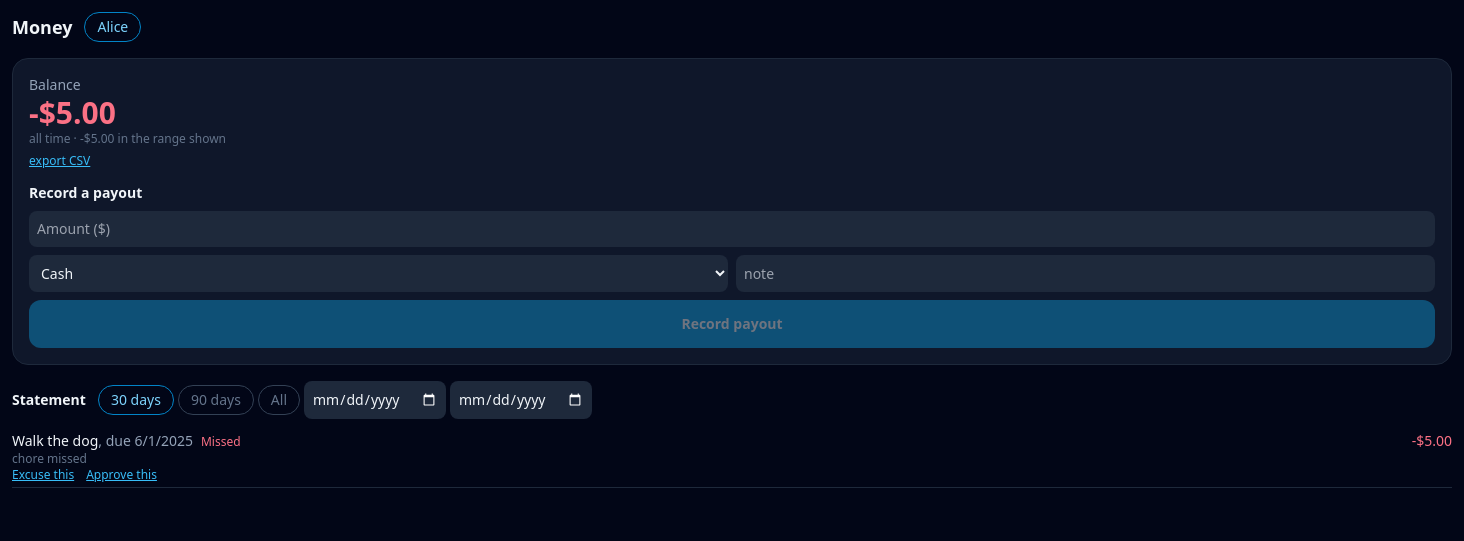
it: admin Money statement › can back out of a quick decision
This screenshot has width=1464, height=541.
Click the button "Approve this" at (122, 475), box [86,467,157,483]
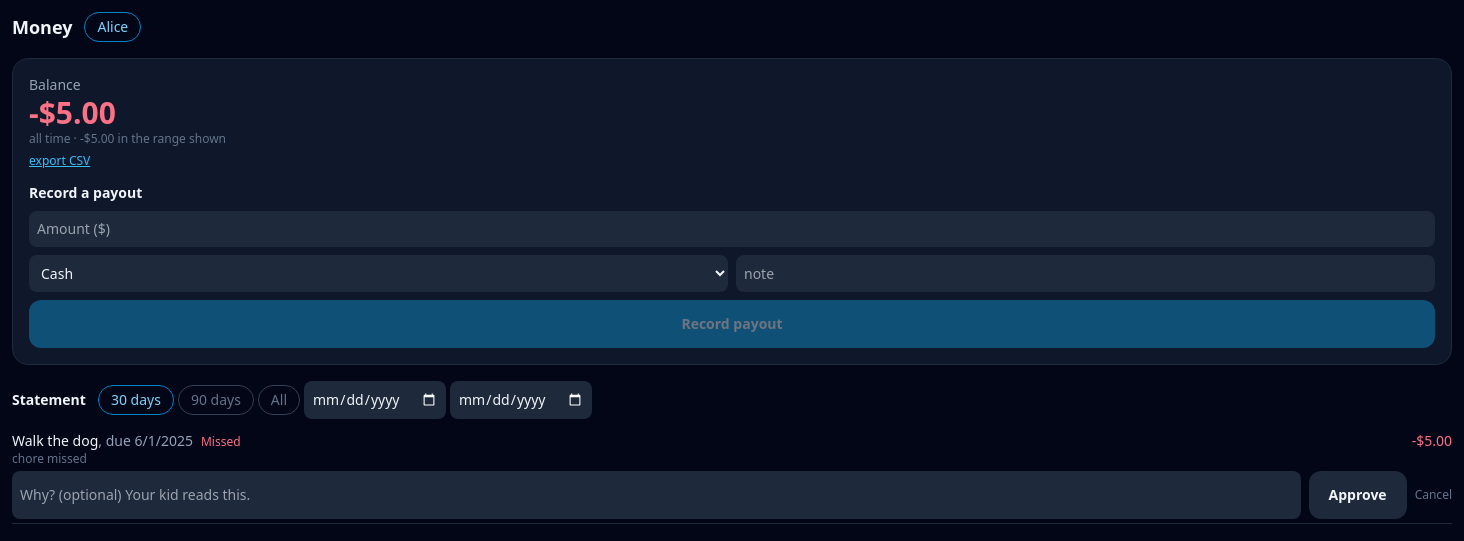
Click the button "Cancel" at (1433, 495), box [1415,471,1452,519]
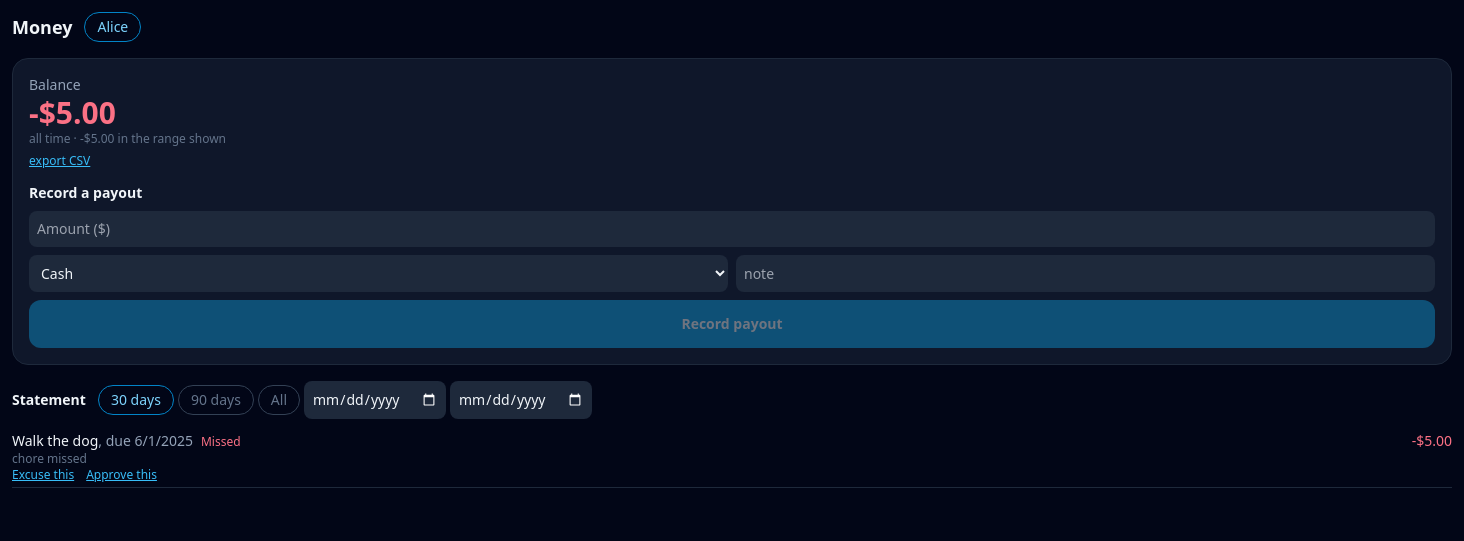
Expected: the button "Excuse this" is shown, [12,467,74,483]
